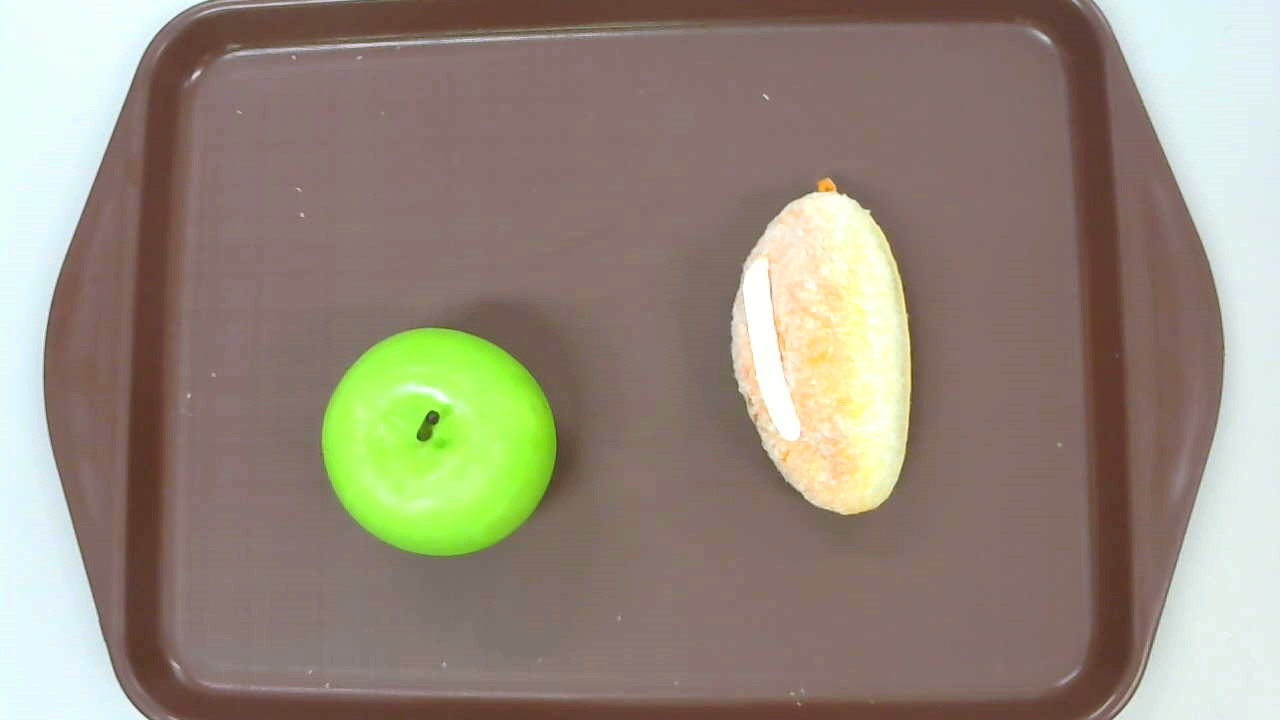coconut: (730, 178, 912, 516)
green apple: (322, 328, 558, 558)
